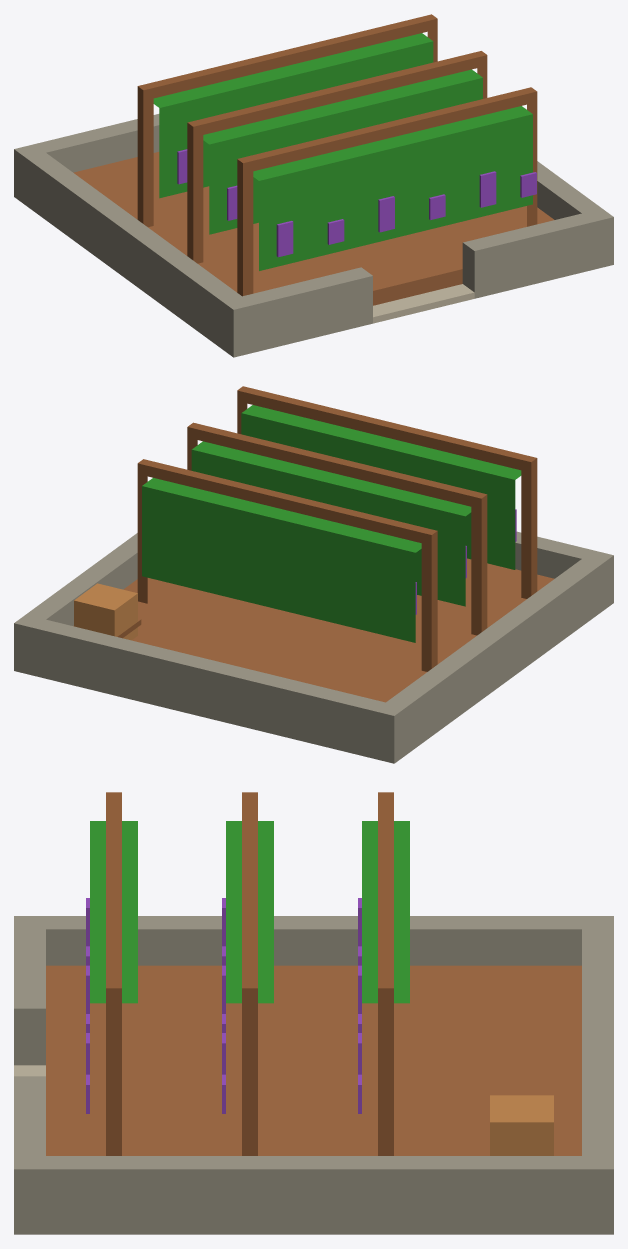
File: field_t3_v4.glb
3 views of the same model, one above another, from view 1: azimuth 30°, elevation 25°; view 2: azimuth 150°, elevation 25°; view 3: azimuth 270°, elevation 25° (orthographic). The views are drawn at different scales.
Visible parts, largest first — view 1: field_t3_v4; view 2: field_t3_v4; view 3: field_t3_v4.
Boxes of the visible parts, bbox=[...] form: field_t3_v4: bbox=[14, 14, 613, 357]; field_t3_v4: bbox=[14, 386, 613, 763]; field_t3_v4: bbox=[14, 792, 613, 1234].
Size of the model in its own units: 0.75 by 0.3 by 0.75.
1 material, 1 textured.
